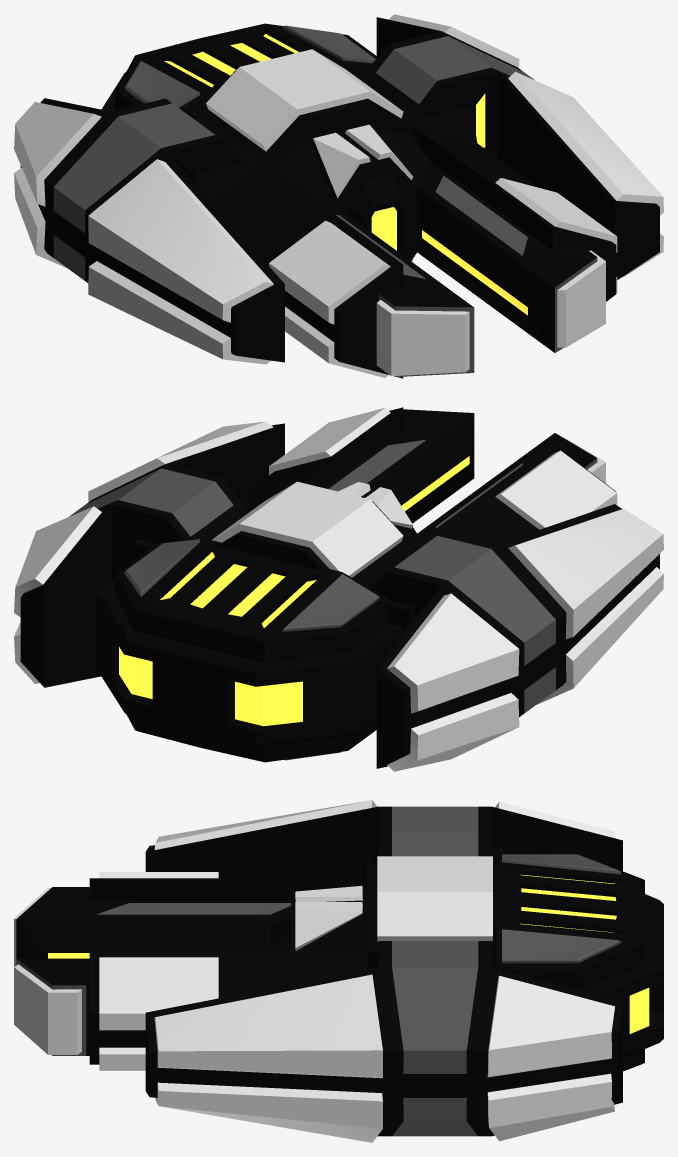
File: 01_ship_medium_lantra.glb
3 views of the same model, one above another, from view 1: azimuth 30°, elevation 25°; view 2: azimuth 150°, elevation 25°; view 3: azimuth 270°, elevation 25° (orthographic).
Parts seen in each view (by area): view 1: 01_ship_medium_lantra; view 2: 01_ship_medium_lantra; view 3: 01_ship_medium_lantra.
Part boxes in pixels (left/top/right/bottom): 01_ship_medium_lantra: left=14, top=14, right=663, bottom=378; 01_ship_medium_lantra: left=14, top=407, right=663, bottom=771; 01_ship_medium_lantra: left=14, top=800, right=663, bottom=1142.
Bounding box in the file's own units: 0.8144 × 0.3127 × 0.9464.
